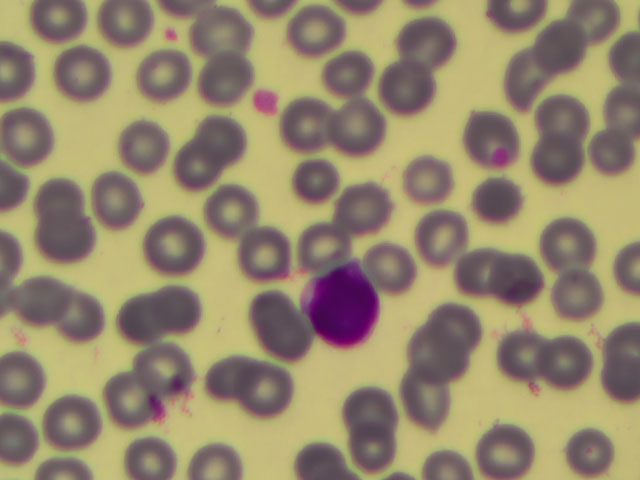Platelets: (251, 86, 284, 116), (164, 26, 183, 44)
RBC: (123, 426, 182, 480), (190, 426, 249, 480), (291, 426, 350, 480), (337, 426, 396, 480), (474, 426, 533, 480), (52, 45, 111, 98), (98, 1, 157, 54), (132, 45, 191, 98), (189, 50, 248, 103), (195, 3, 254, 56), (118, 119, 177, 172), (165, 140, 224, 193), (195, 116, 254, 169), (86, 171, 145, 224), (35, 169, 94, 222), (6, 111, 65, 164), (39, 202, 98, 255), (8, 274, 67, 327), (54, 291, 113, 344), (107, 292, 166, 345), (148, 288, 207, 341), (147, 218, 206, 271), (197, 178, 256, 231), (229, 220, 288, 273), (291, 219, 350, 272), (335, 177, 394, 230), (288, 152, 347, 205), (278, 94, 337, 147), (331, 98, 390, 151), (326, 44, 385, 97), (379, 61, 438, 114), (397, 14, 456, 67), (468, 109, 527, 162), (400, 147, 459, 200), (411, 211, 470, 264), (466, 179, 525, 232), (367, 240, 426, 293), (251, 302, 310, 355), (242, 362, 301, 415), (194, 356, 253, 409), (136, 342, 195, 395), (106, 368, 165, 421), (45, 387, 104, 440), (342, 387, 401, 440), (402, 379, 461, 432), (407, 331, 466, 384), (426, 304, 485, 357), (452, 242, 511, 295), (494, 250, 553, 303), (534, 213, 593, 266), (550, 268, 609, 321), (537, 333, 596, 386), (494, 330, 553, 383), (548, 424, 607, 477), (581, 120, 640, 173), (529, 131, 588, 184), (529, 95, 588, 148), (499, 51, 558, 104), (528, 21, 587, 74), (1, 356, 59, 409), (31, 1, 90, 53), (289, 1, 348, 53), (559, 1, 618, 53), (600, 89, 640, 134)
WBC: (301, 269, 386, 349)
